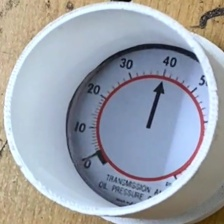gauge: (66, 43, 209, 207)
